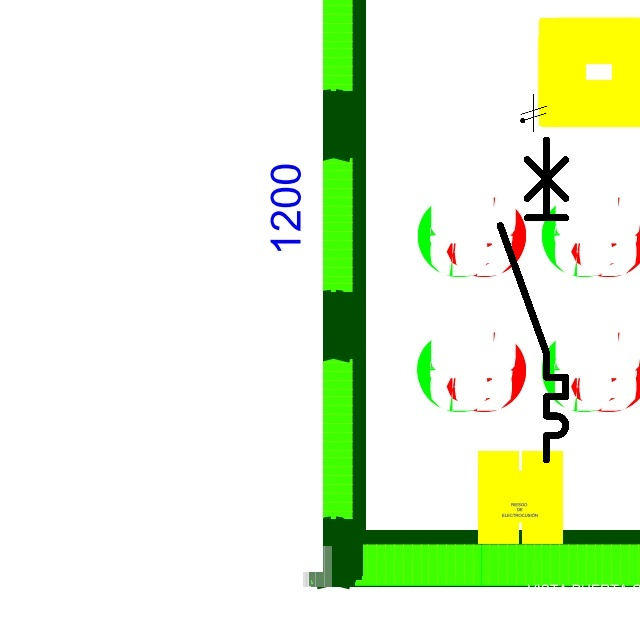interruptor_termomagnetico: (492, 132, 574, 468)
